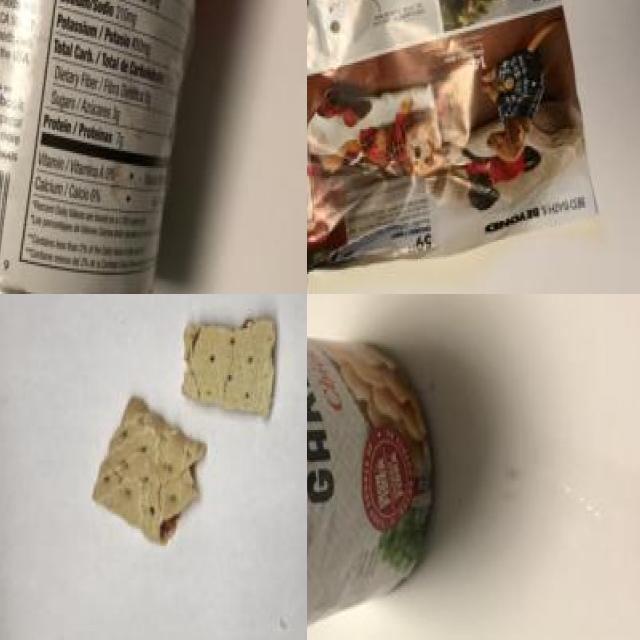compost: (84, 297, 298, 566)
paper: (307, 0, 595, 271)
plastic: (0, 0, 201, 294), (307, 294, 453, 640)
